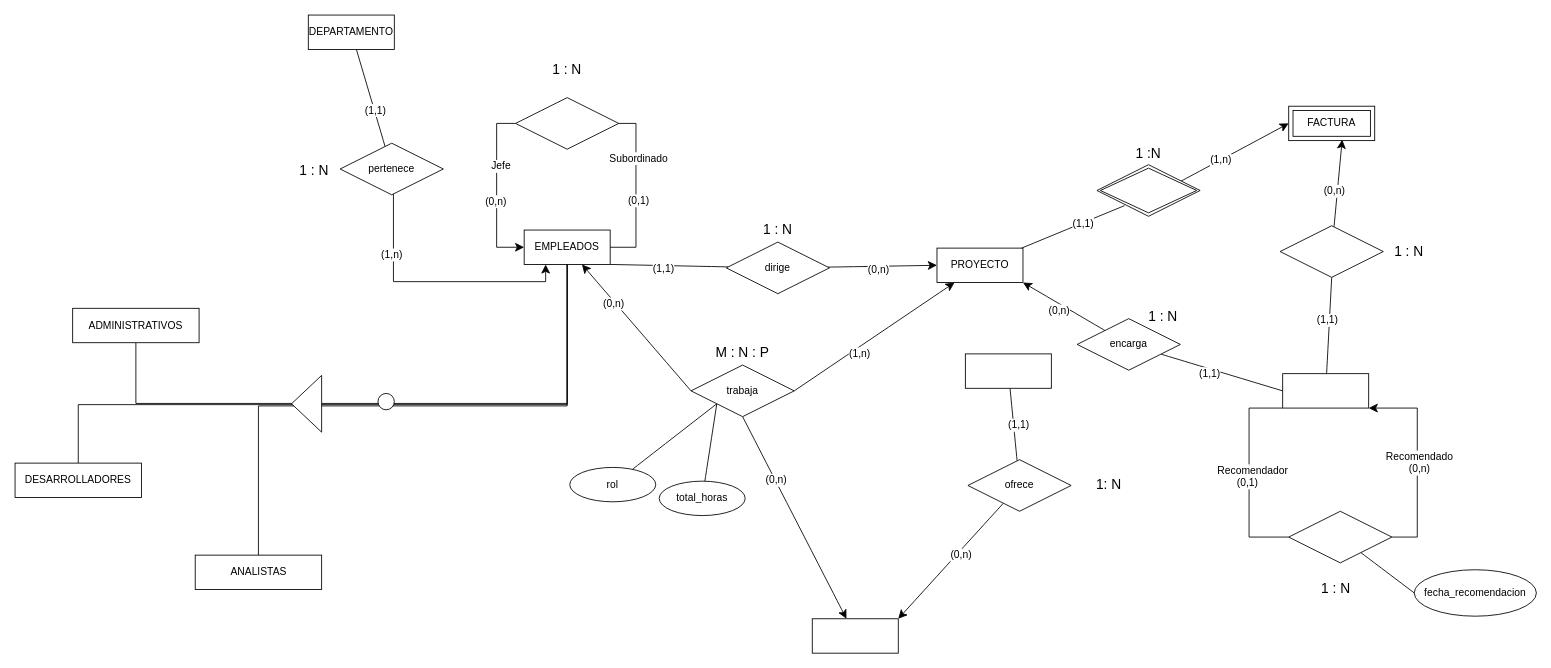
Some shapes in this 1551 by 668 pixel diagram are drawn without their labels. Each missing label, with the centre of its shape:
CLIENTES: the point at 1325,390
es jefe: the point at 567,123
HERRAMIENTAS: the point at 854,635
ID genera: the point at 1148,190
PROVEEDOR: the point at 1007,370
recomienda: the point at 1340,536
se emite a: the point at 1331,251
